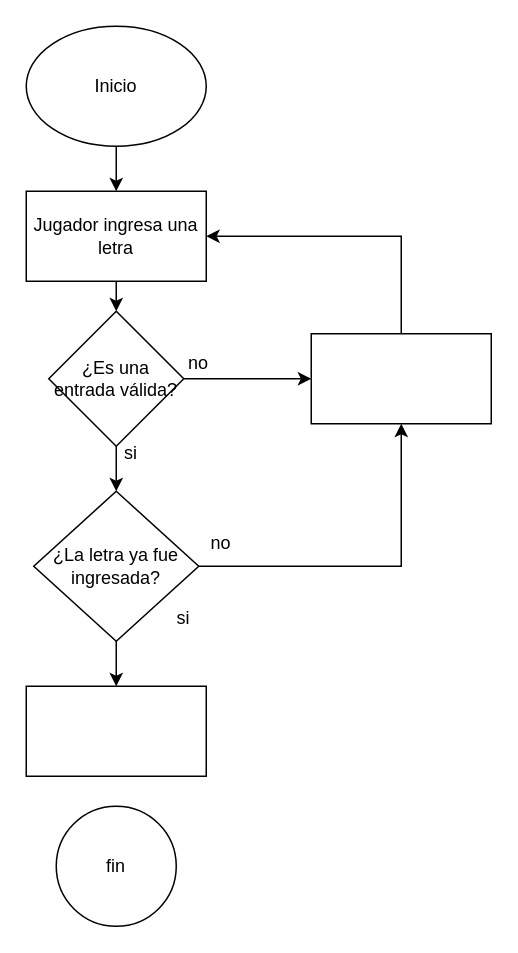
This 518x953 diagram has some shape labels left out. The shapes that lost their labels are listed below. From the top down, each one's centre as x and y in pixels, then its label:
(x=400, y=378): Mostrar "error y pedir otra entrada"
(x=115, y=730): Enviar letra a la lógica del juego
